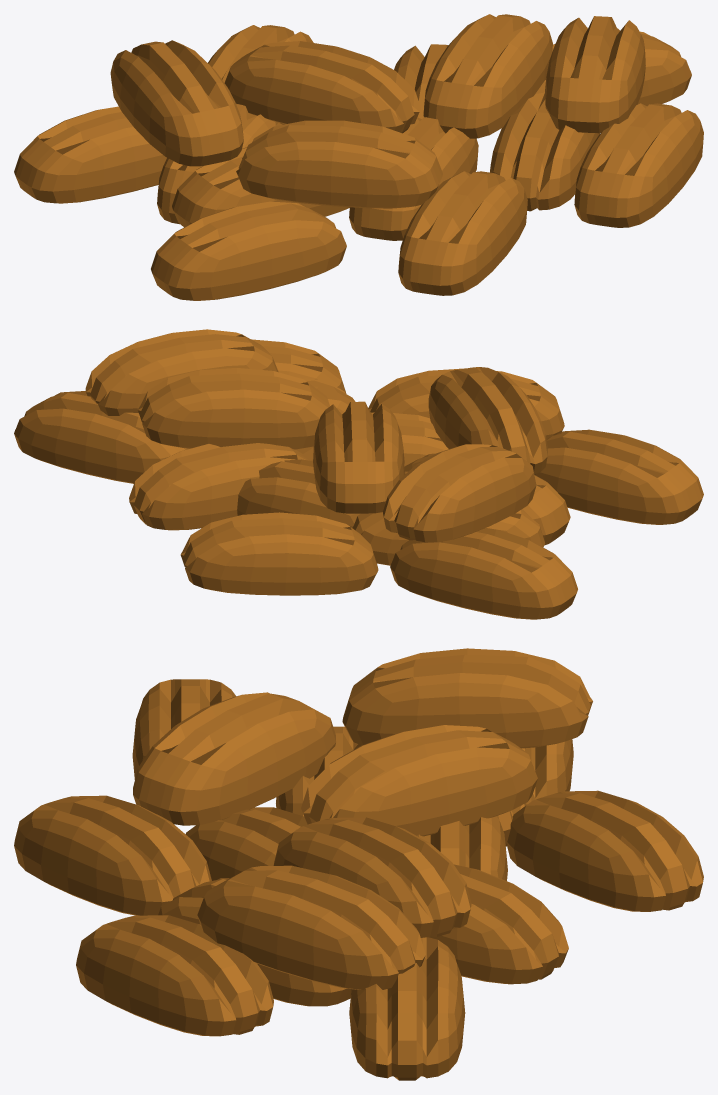
File: NUEZ.fbx
3 views of the same model, one above another, from view 1: azimuth 30°, elevation 25°; view 2: azimuth 150°, elevation 25°; view 3: azimuth 270°, elevation 25° (orthographic). The views are drawn at different scales.
Visible parts, largest first — view 1: Nuez; view 2: Nuez; view 3: Nuez.
Part boxes in pixels (x1,y1,x2,y2): Nuez: [14, 14, 703, 300]; Nuez: [14, 329, 703, 619]; Nuez: [14, 648, 703, 1080].
Bounding box in the file's own units: 6.42 × 1.23 × 5.14.
